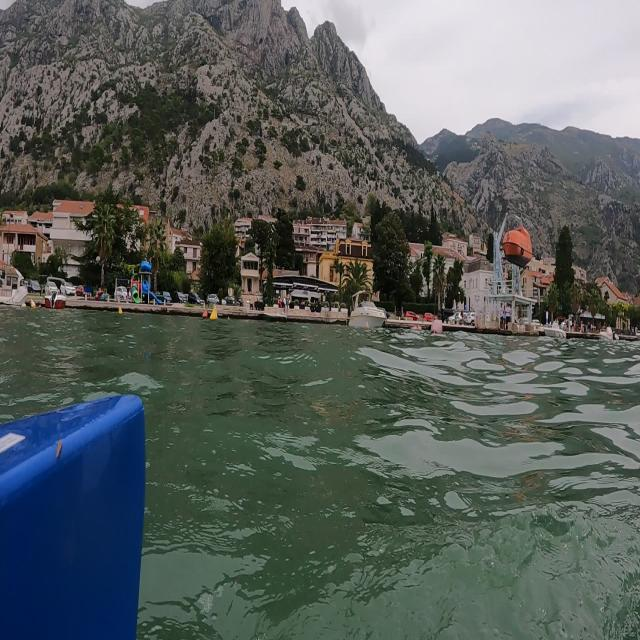boat: (346, 282, 386, 337)
buoy: (424, 318, 448, 339), (208, 306, 223, 324)
